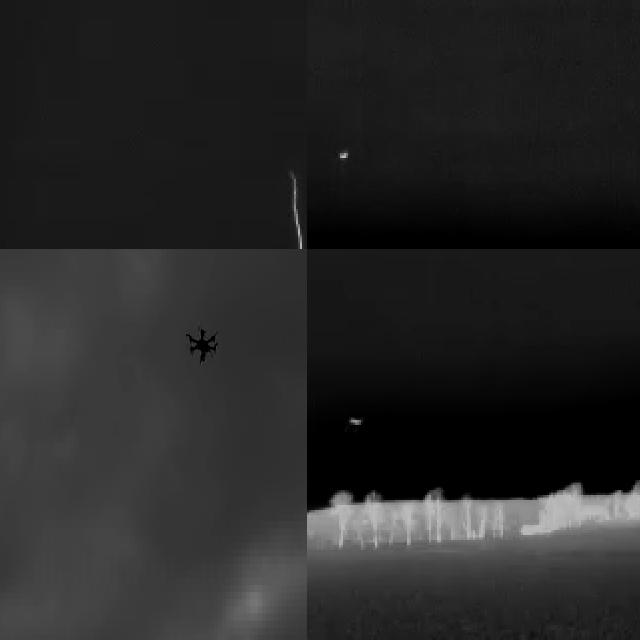1: (332, 405, 376, 445), (329, 144, 353, 167)
drone: (185, 321, 222, 372)
